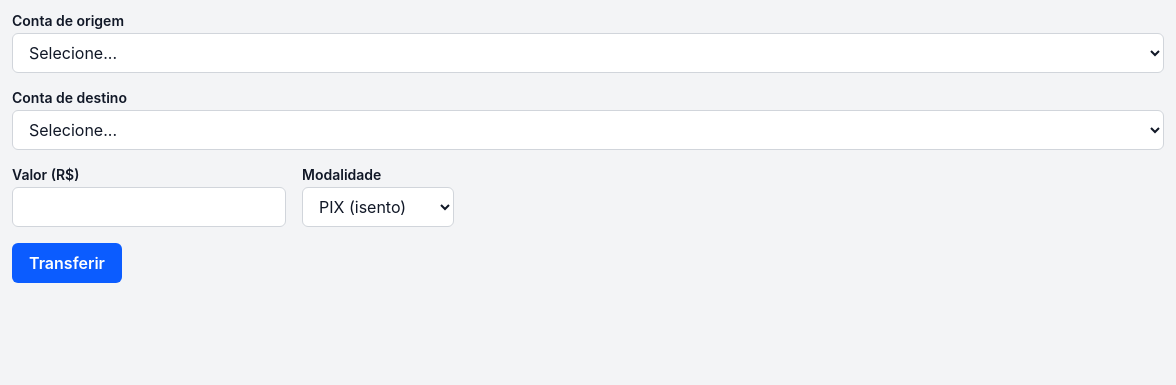
Test: TransferForm › reutiliza a Idempotency-Key ao tentar de novo após falha
Select "Ana — R$ 1.000,00" in the dropdown labelled "Conta de origem" at coordinates (588, 53), box top-left (12, 33), bottom-right (1164, 73)
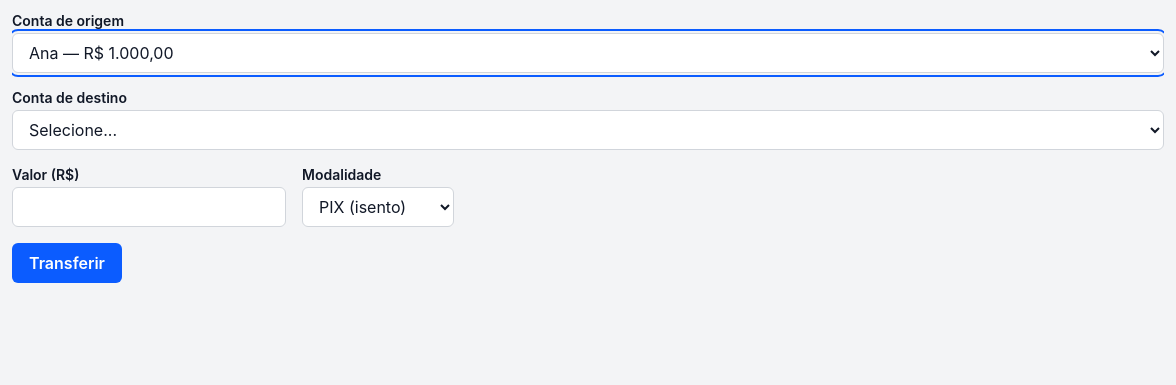
Select "Bruno — R$ 50,00" in the dropdown labelled "Conta de destino" at coordinates (588, 130), box top-left (12, 110), bottom-right (1164, 150)
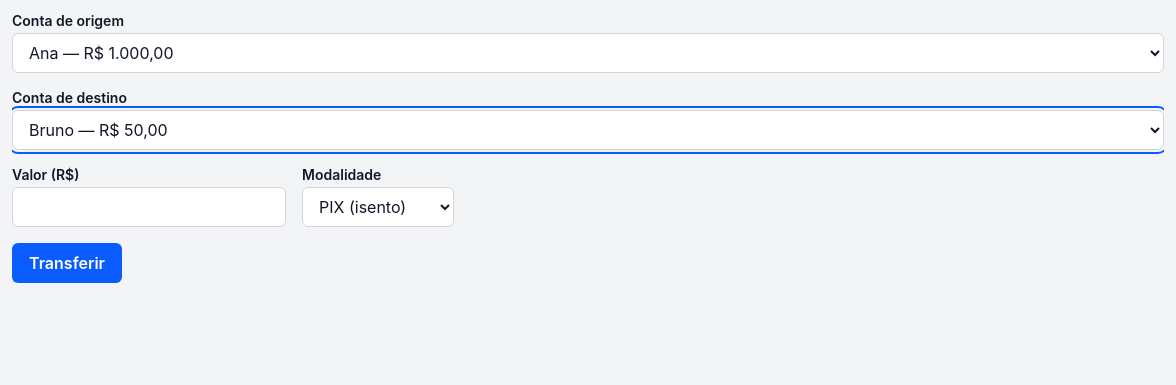
Type "100" into the field labelled "Valor (R$)" at coordinates (149, 207), box top-left (12, 187), bottom-right (286, 227)
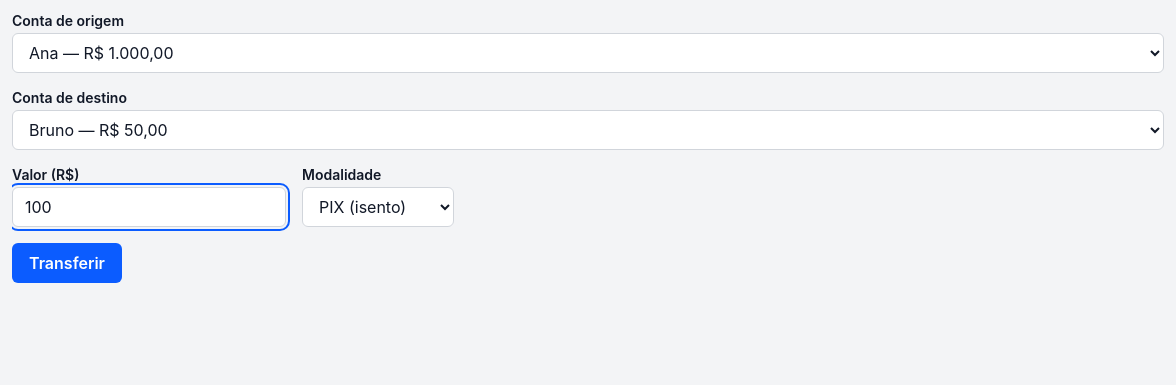
Click the button "Transferir" at coordinates (67, 263), box top-left (12, 243), bottom-right (122, 283)
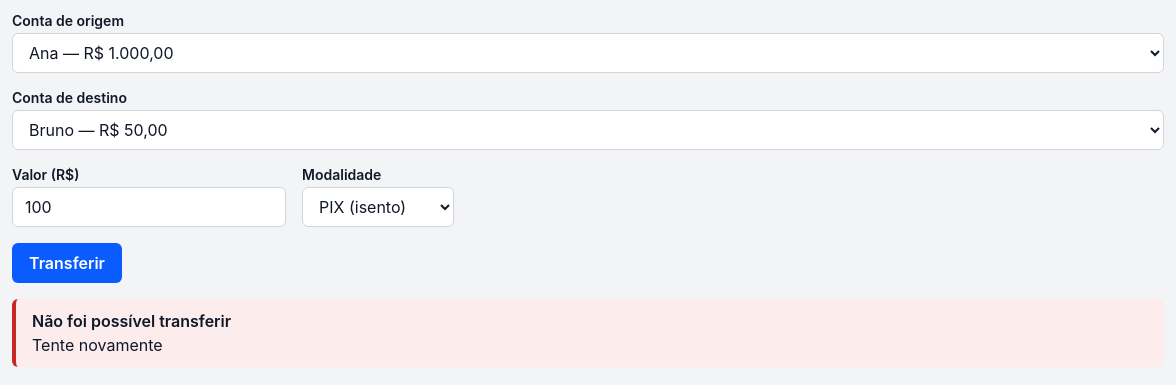
expect the message shows "Tente novamente": met, box top-left (32, 335), bottom-right (163, 355)
Click the button "Transferir" at coordinates (67, 263), box top-left (12, 243), bottom-right (122, 283)
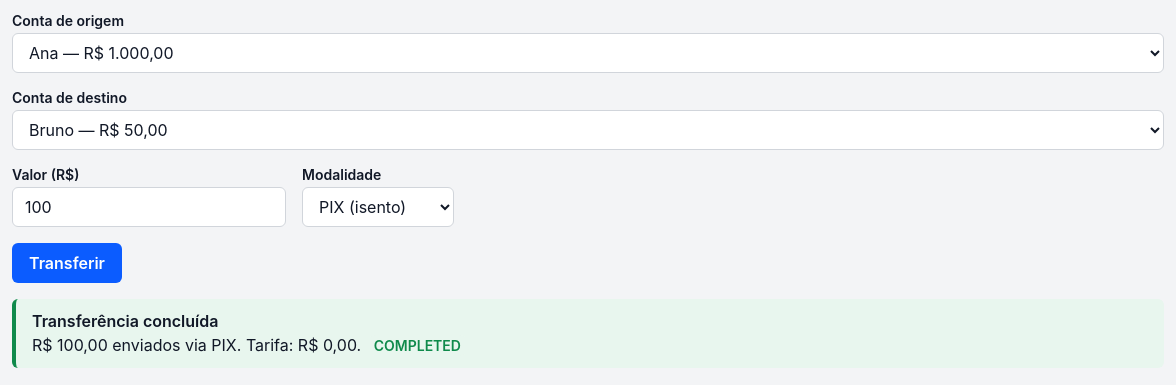
expect the text "Transferência concluída" is shown: met, box top-left (32, 311), bottom-right (218, 331)
